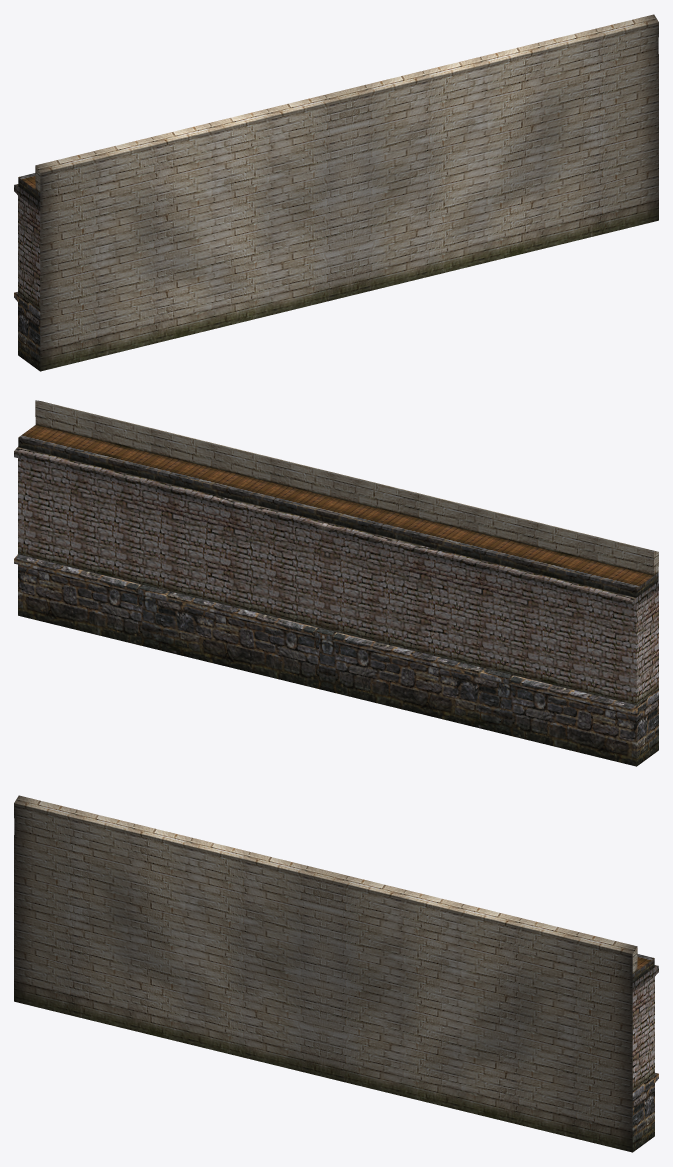
The model's file is MEB_Rampart.fbx.
3 views of the same model, one above another, from view 1: azimuth 30°, elevation 25°; view 2: azimuth 150°, elevation 25°; view 3: azimuth 330°, elevation 25° (orthographic).
Parts seen in each view (by area): view 1: MEB_Rampart; view 2: MEB_Rampart; view 3: MEB_Rampart.
Boxes of the visible parts, left/top/right/bottom form: MEB_Rampart: left=14, top=14, right=658, bottom=371; MEB_Rampart: left=14, top=400, right=658, bottom=766; MEB_Rampart: left=14, top=795, right=658, bottom=1152.
Size of the model in its own units: 2710 by 848 by 199.
Materials: 1 (1 with a texture image).
